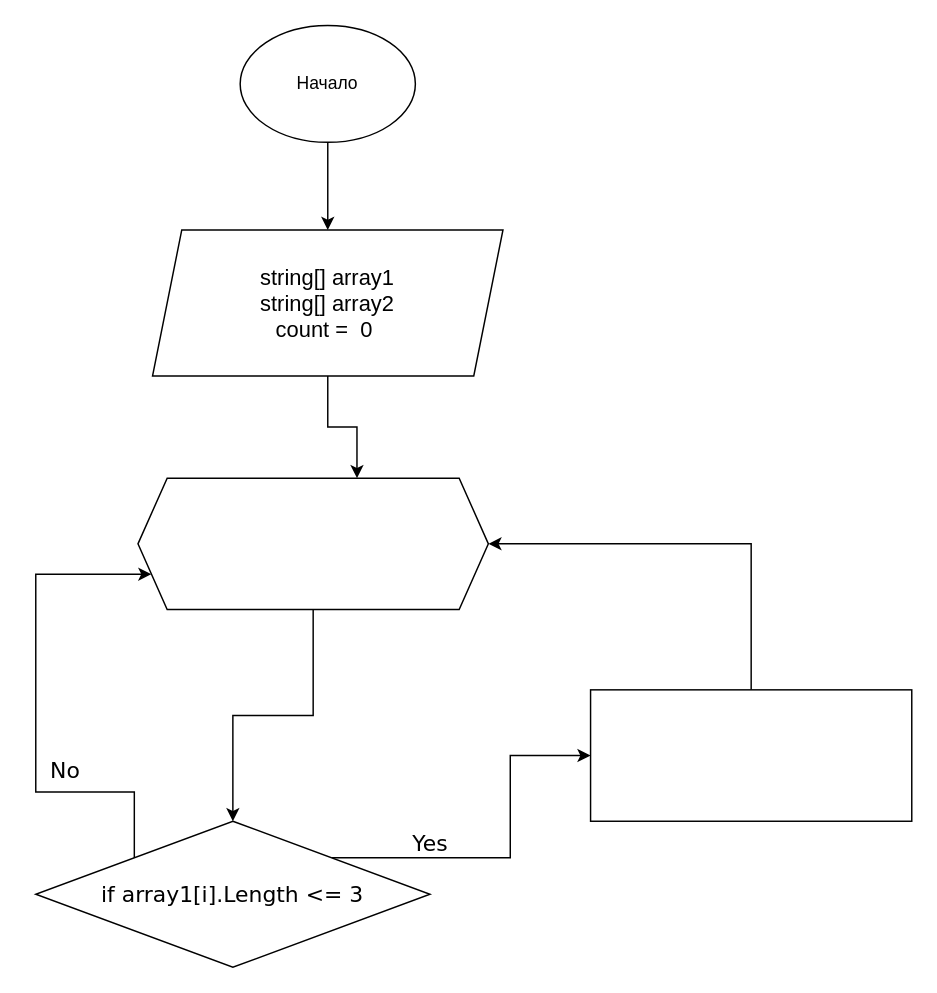
This 937x993 diagram has some shape labels left out. The centre of each missing label's shape, as x and y in pixels:
"array2[count] = array1[i] count ++;" goes at pixel 750 754.
"for( i =0; i < array1.Length; i ++)" goes at pixel 312 543.
